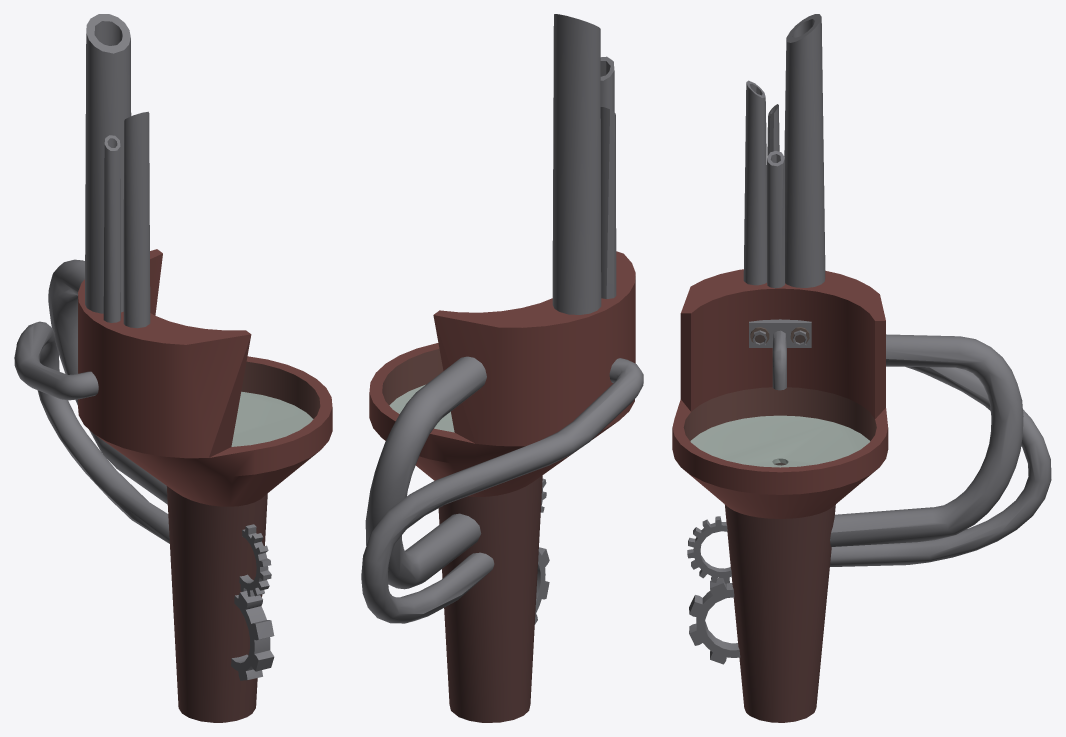
File: drinking_fountain.fbx
3 views of the same model, side by side, from view 1: azimuth 30°, elevation 25°; view 2: azimuth 150°, elevation 25°; view 3: azimuth 270°, elevation 25° (orthographic). The views are drawn at different scales.
Visible parts, largest first — view 1: Publicwaterfountain; view 2: Publicwaterfountain; view 3: Publicwaterfountain.
Part boxes in pixels (x1,y1,x2,y2): Publicwaterfountain: (14, 14, 332, 722); Publicwaterfountain: (361, 14, 643, 722); Publicwaterfountain: (672, 14, 1051, 722).
Size of the model in its own units: 123 by 326 by 173.
1 material, 1 textured.
